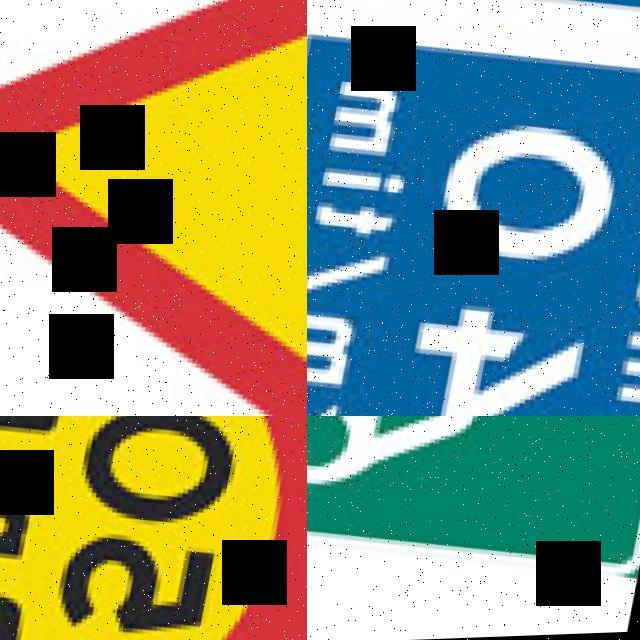102: (307, 0, 640, 416)
174: (0, 0, 307, 416)
50 meters between vehicles: (0, 416, 307, 640)
73: (307, 416, 640, 605)
